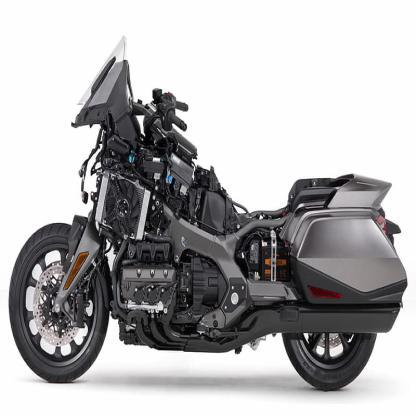Motorcycle: (5, 29, 410, 395)
